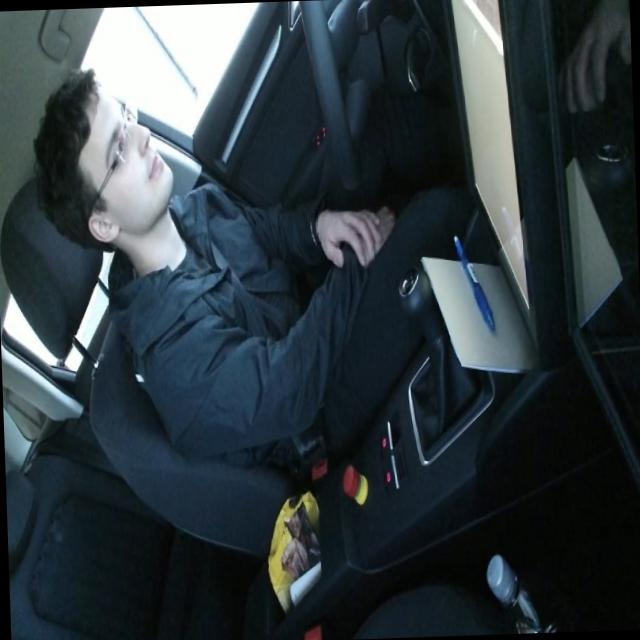pen: (452, 230, 496, 333)
